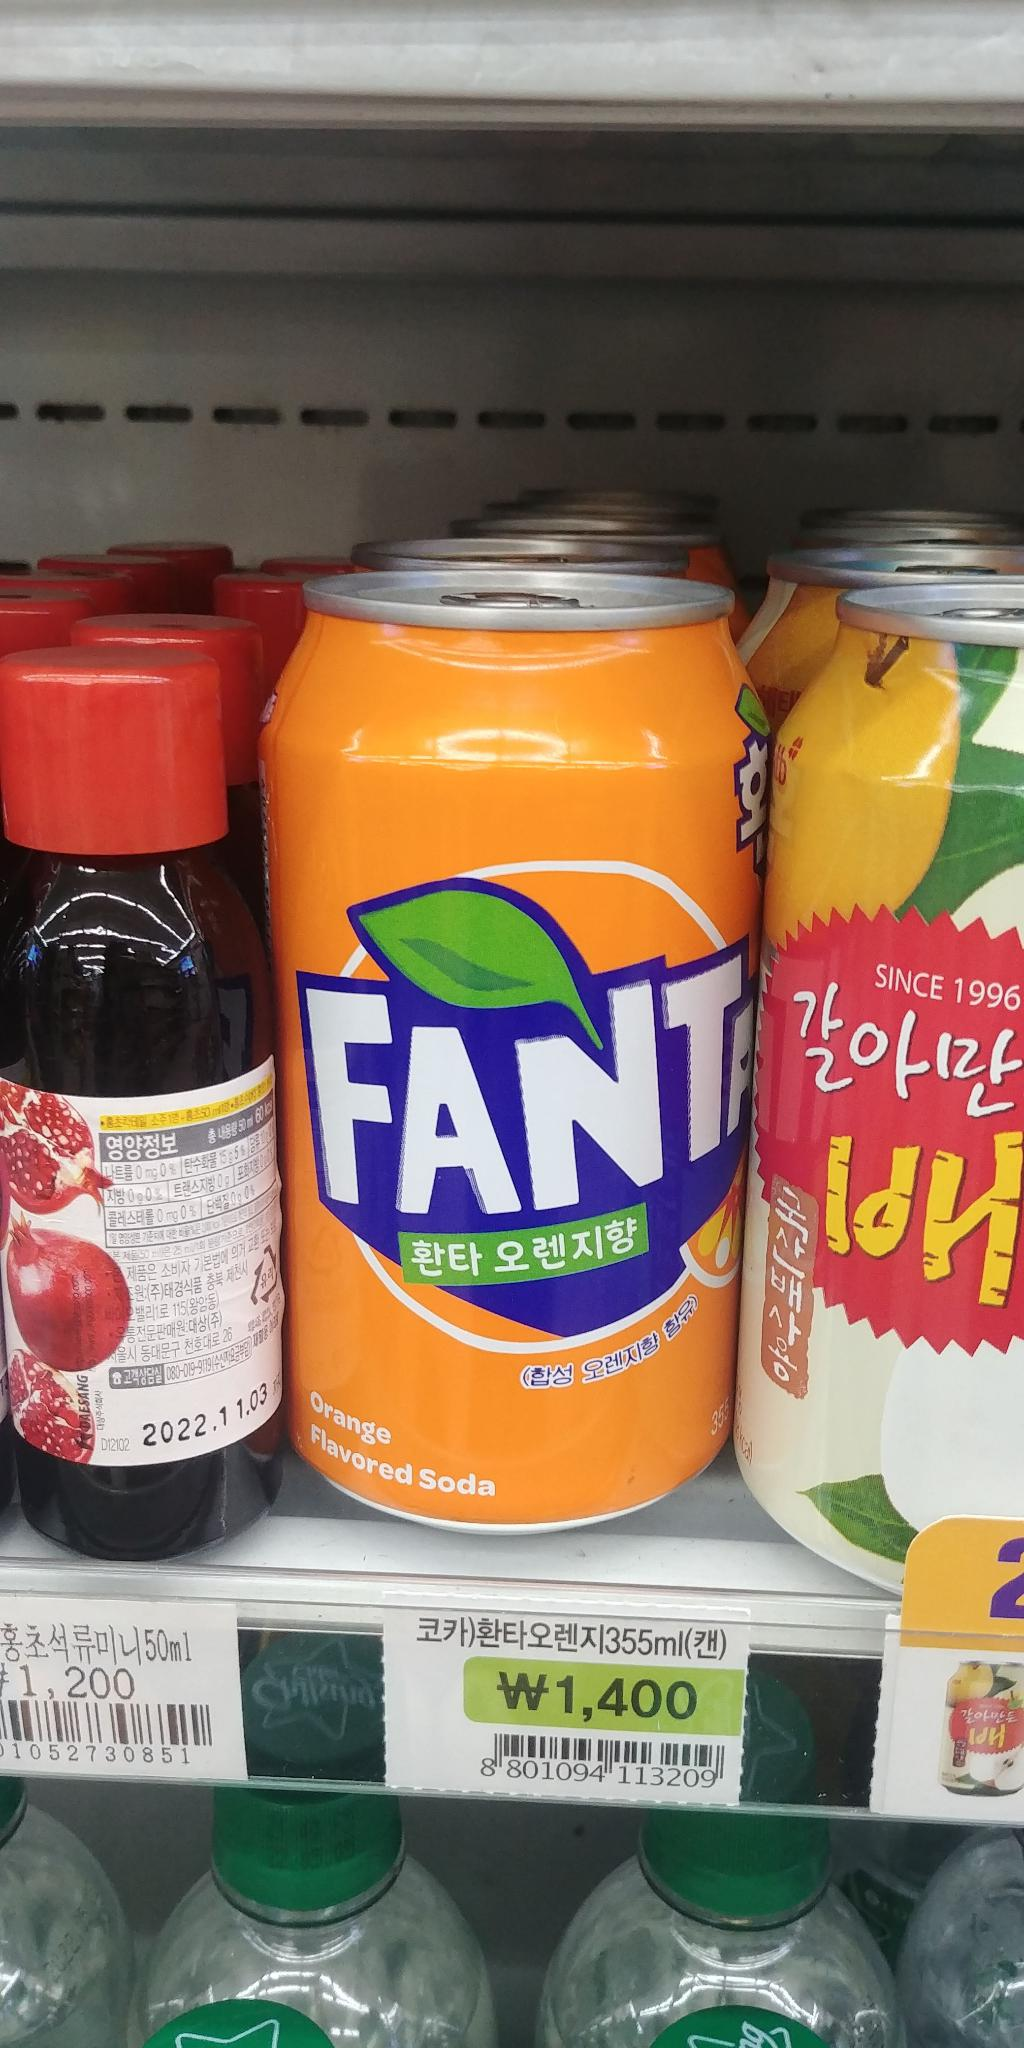fanta_orange: (236, 539, 765, 1540)
